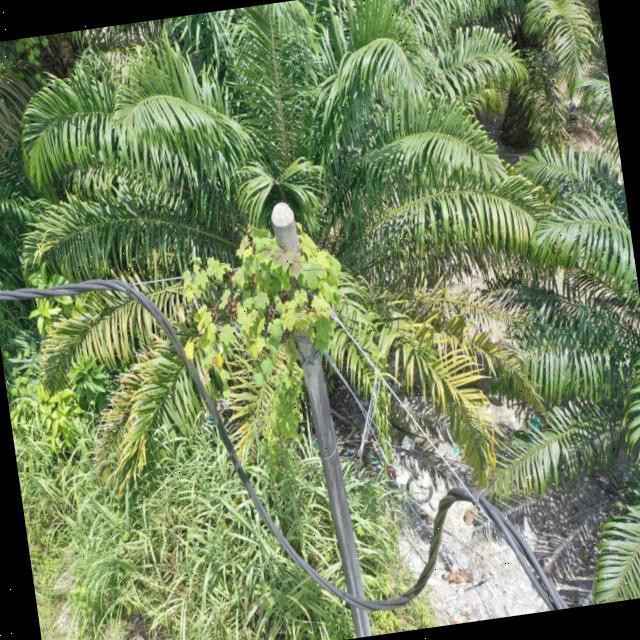critical vegetation: (89, 212, 378, 541)
